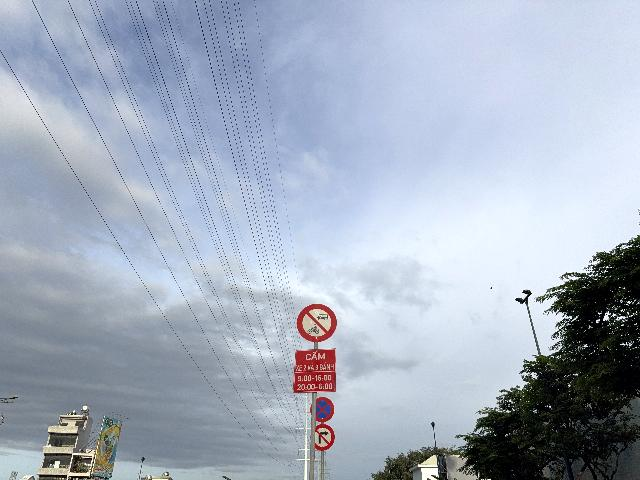cam-dung-va-do-xe: (310, 397, 335, 423)
cam-re-phai: (315, 424, 335, 451)
cam-xe-2-banh-3-banh: (296, 303, 337, 342)
